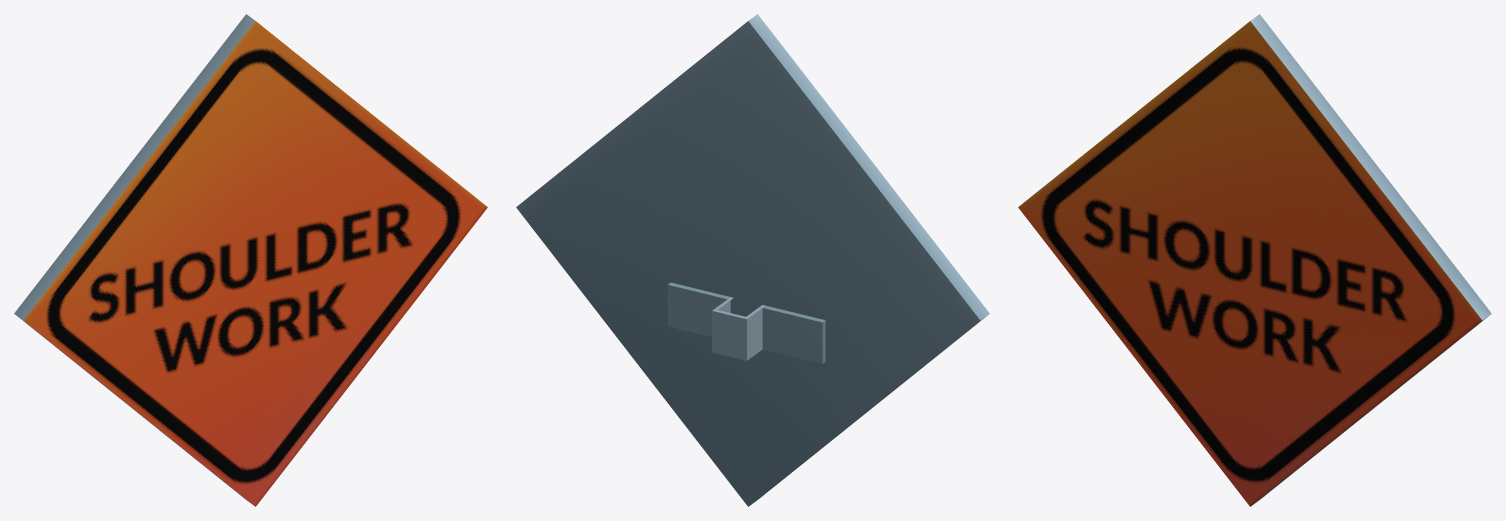
Rendered from Sign10.fbx.
3 renders of one model, left to right at view 1: azimuth 30°, elevation 25°; view 2: azimuth 150°, elevation 25°; view 3: azimuth 330°, elevation 25°, orthographic.
Parts seen in each view (by area): view 1: Sign10; view 2: Sign10; view 3: Sign10.
Boxes of the visible parts, x1,y1,x2,y2 form: Sign10: [14, 14, 487, 506]; Sign10: [516, 14, 989, 506]; Sign10: [1018, 14, 1491, 506].
Bounding box in the file's own units: 1.41 × 0.1489 × 1.41.
